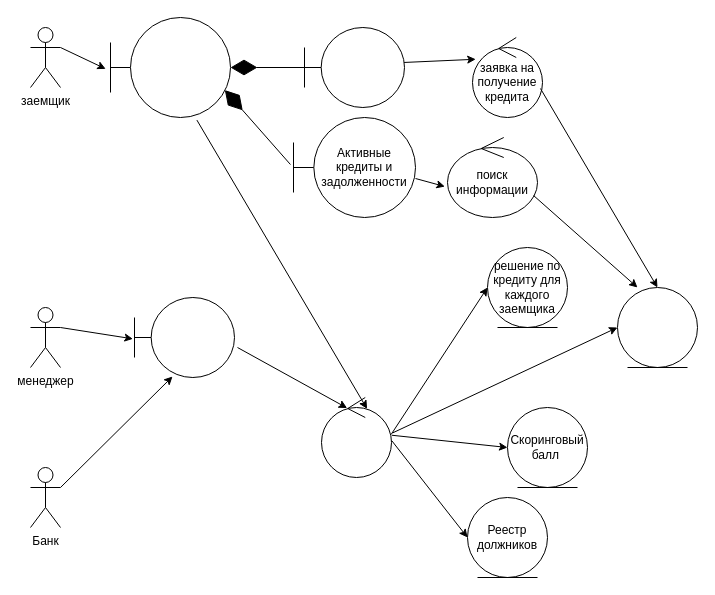
Image size: 715x595. Some labels were removed from this diagram. The shapes that lost their labels are listed below. From the top down, each one's box as (x1, y1, x2, y2) in pixels, then its label:
(110, 16, 230, 118): Интерфейс личного кабинета клиента банка
(304, 26, 404, 108): Список кредитных планов
(134, 296, 234, 378): Интерфейс ИС для банковского дела
(616, 286, 698, 368): Данные по заемщику
(320, 396, 392, 478): Менеджер БД
